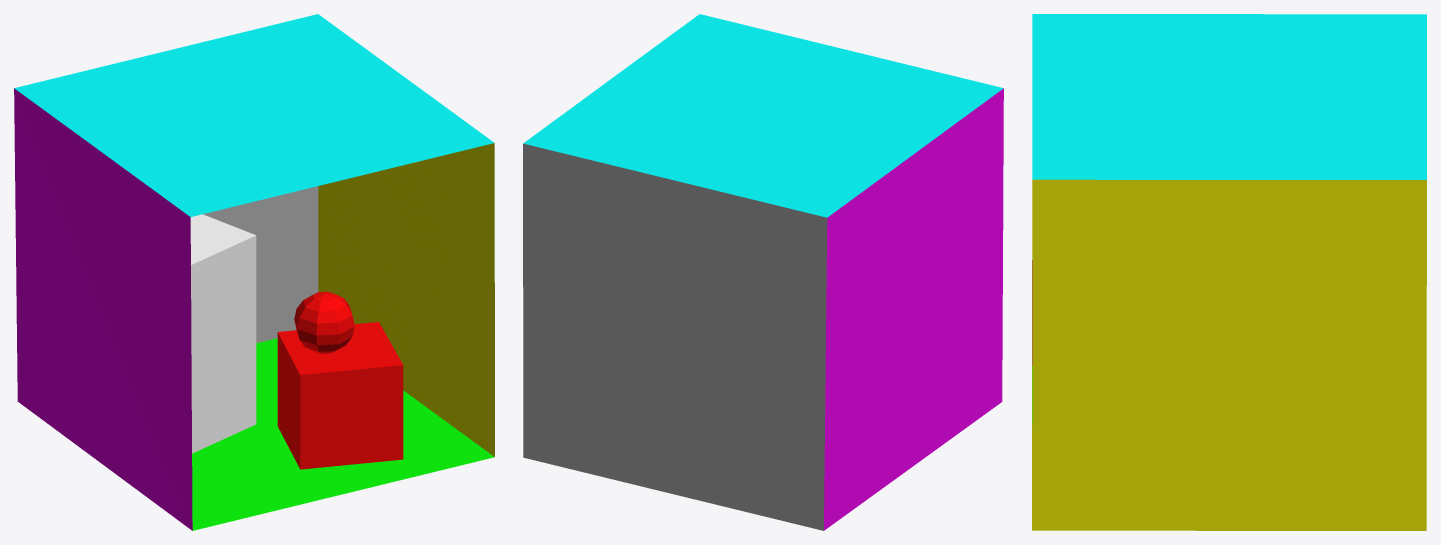
File: ballCornell.obj
The picture shows the model from 3 angles, left to right: view 1: azimuth 30°, elevation 25°; view 2: azimuth 150°, elevation 25°; view 3: azimuth 270°, elevation 25°; orthographic projection. The views are drawn at different scales.
Visible parts, largest first — view 1: left_wall, ceiling, right_wall, floor, short_box, tall_box, back_wall, sphere1; view 2: back_wall, left_wall, ceiling; view 3: right_wall, ceiling.
Boxes of the visible parts, left/top/right/bottom form: left_wall: left=14, top=88, right=192, bottom=530; ceiling: left=14, top=14, right=494, bottom=216; right_wall: left=318, top=143, right=494, bottom=456; floor: left=192, top=338, right=494, bottom=530; short_box: left=277, top=322, right=403, bottom=469; tall_box: left=190, top=214, right=256, bottom=453; back_wall: left=203, top=186, right=318, bottom=343; sphere1: left=294, top=291, right=354, bottom=353; back_wall: left=523, top=143, right=827, bottom=530; left_wall: left=824, top=88, right=1003, bottom=530; ceiling: left=523, top=14, right=1003, bottom=217; right_wall: left=1032, top=179, right=1426, bottom=530; ceiling: left=1032, top=14, right=1426, bottom=179.
Size of the model in its own units: 5.56 by 5.49 by 5.6.
